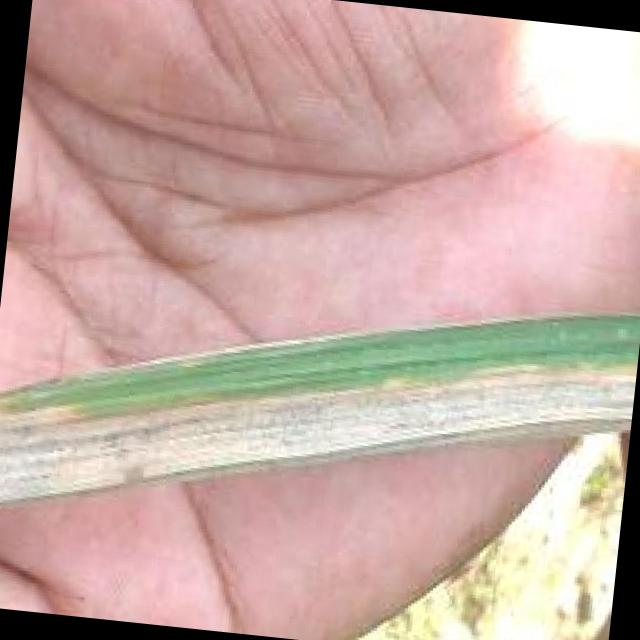Rice_Bacterial_Blight: (8, 320, 624, 540)
